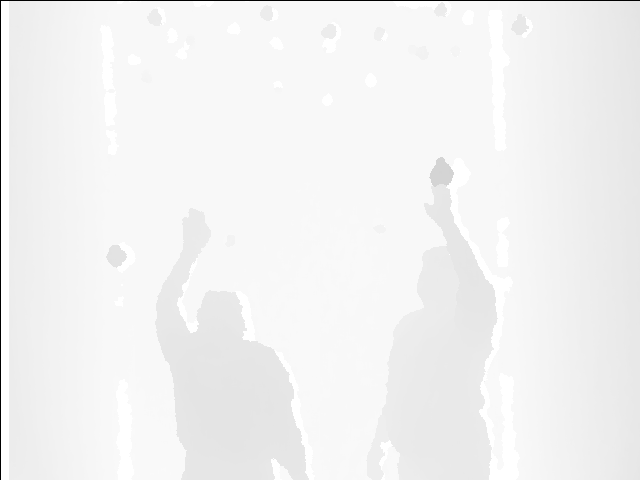hand: (180, 206, 209, 258), (420, 185, 457, 224)
